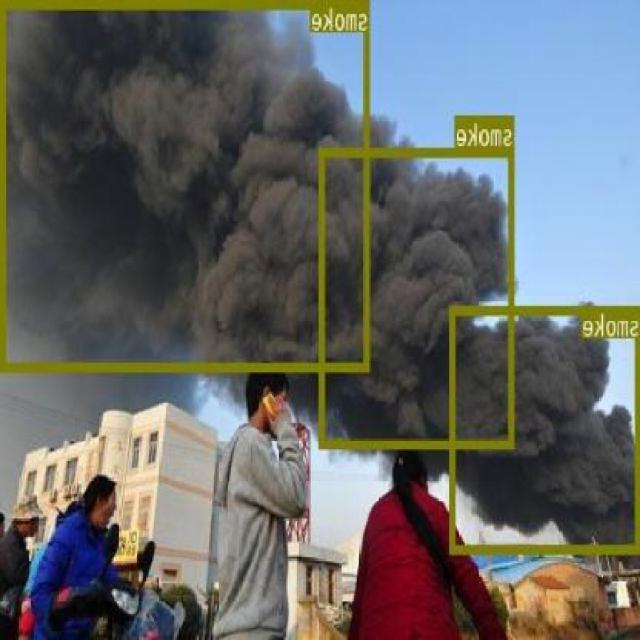Smoke: (2, 0, 370, 369), (320, 146, 516, 446), (451, 304, 640, 552)
